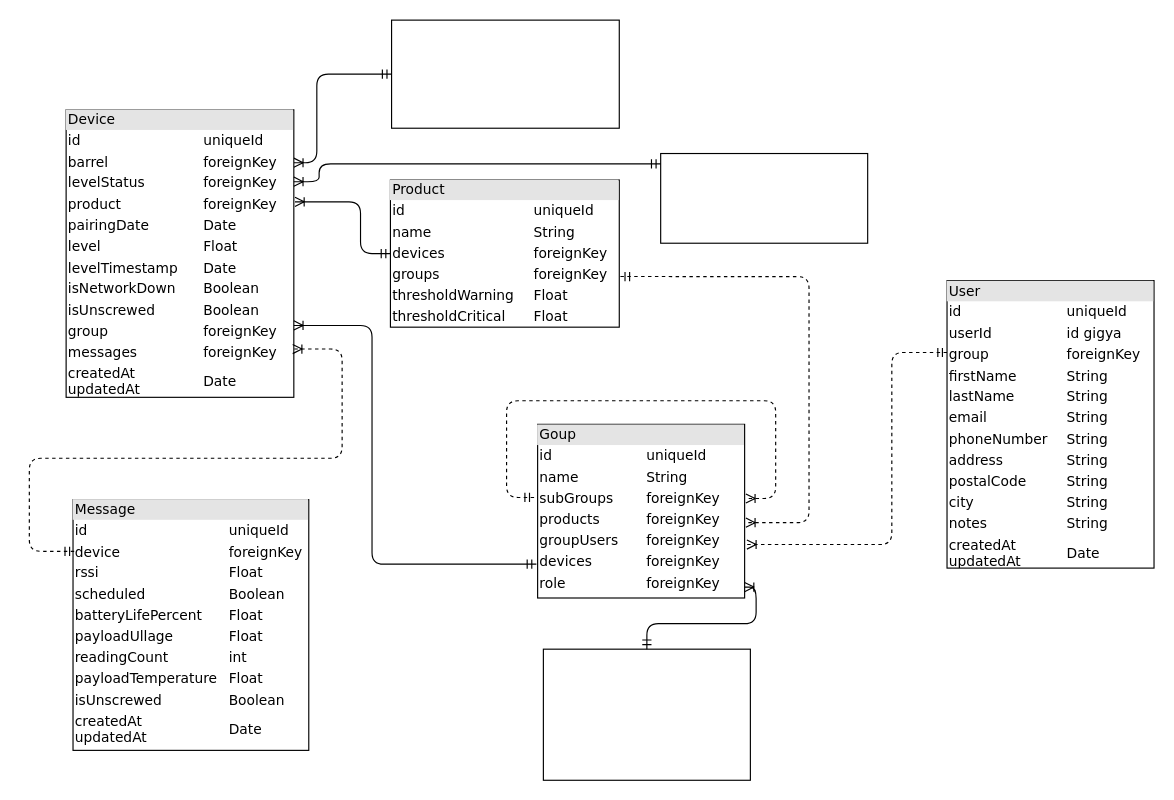
Image size: 1174x800. Some labels were removed from this diagram. Each missing label, with the box of its shape:
Barrel id uniqueId name String barrelHeight Float barrelArea Float: (390, 19, 619, 128)
Enum Level Critical Low Ok: (660, 152, 868, 243)
Enum Role Admin SubsidiaryCompany GroupingAccount Distributor Client: (542, 648, 750, 780)
